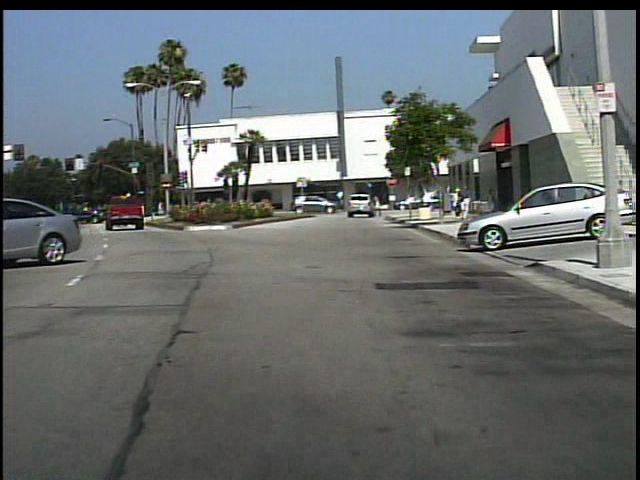person: (460, 184, 474, 223), (482, 186, 498, 218), (452, 187, 464, 219), (373, 192, 383, 221)
